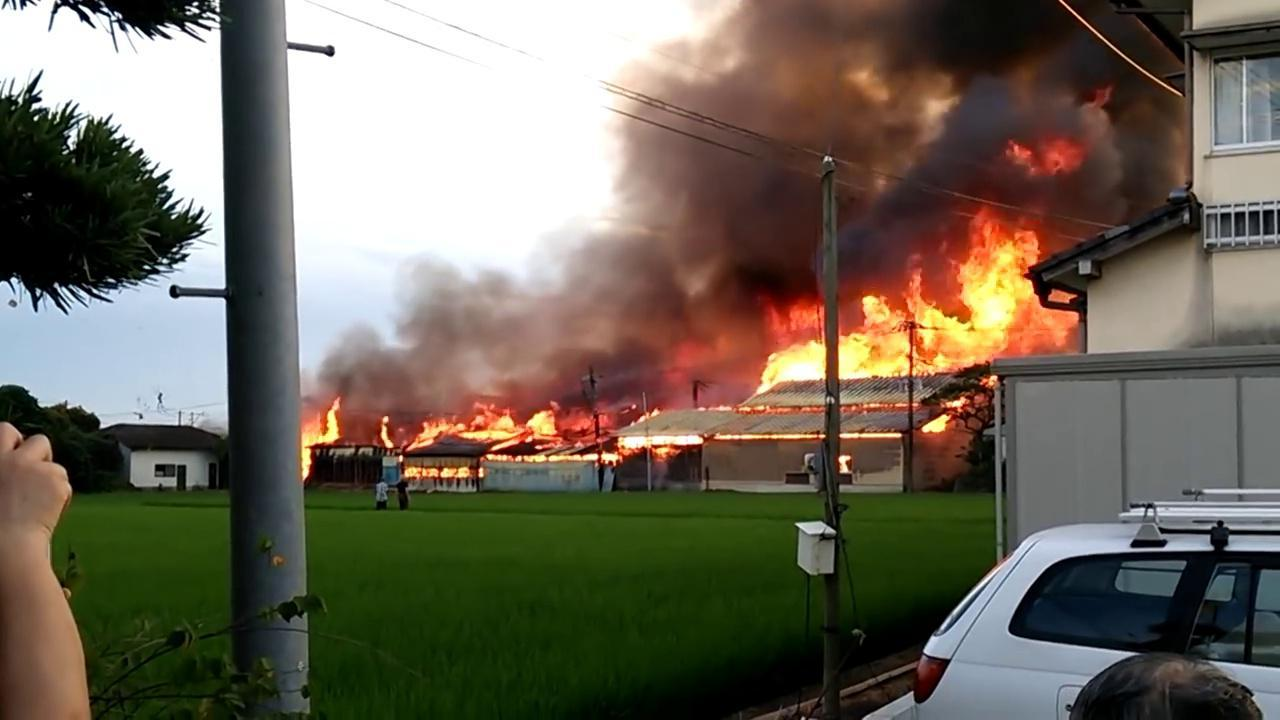Fire: (736, 217, 1103, 403), (380, 403, 627, 451), (301, 400, 347, 478), (1007, 141, 1088, 173), (484, 452, 623, 463), (402, 462, 491, 478), (712, 402, 774, 415), (631, 407, 665, 426)
